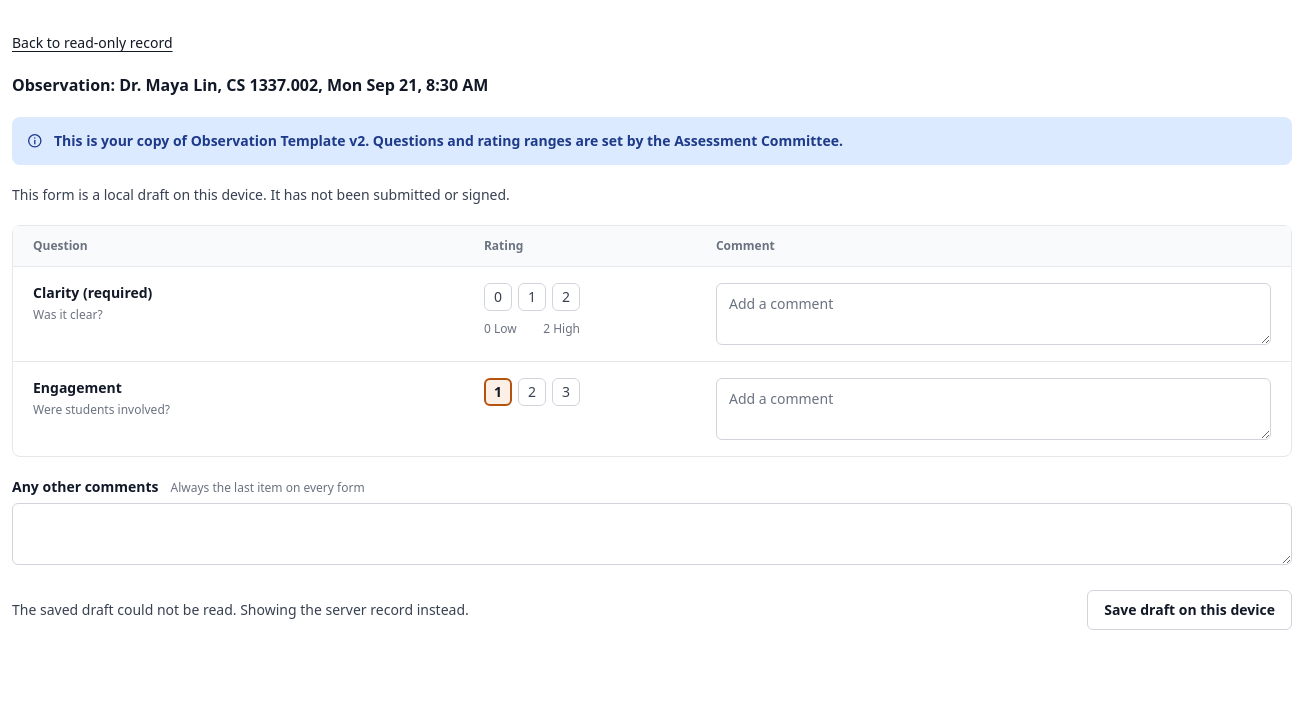
Scenario: rejects corrupt storage and retains edits if writes are blocked
The image size is (1304, 720).
Expected: the text "The saved draft could not be read. Showing the server record instead." is shown, x1=12 y1=600 x2=469 y2=620
Click the radio button labelled "0". click: (498, 297)
box: x1=484 y1=283 x2=512 y2=311
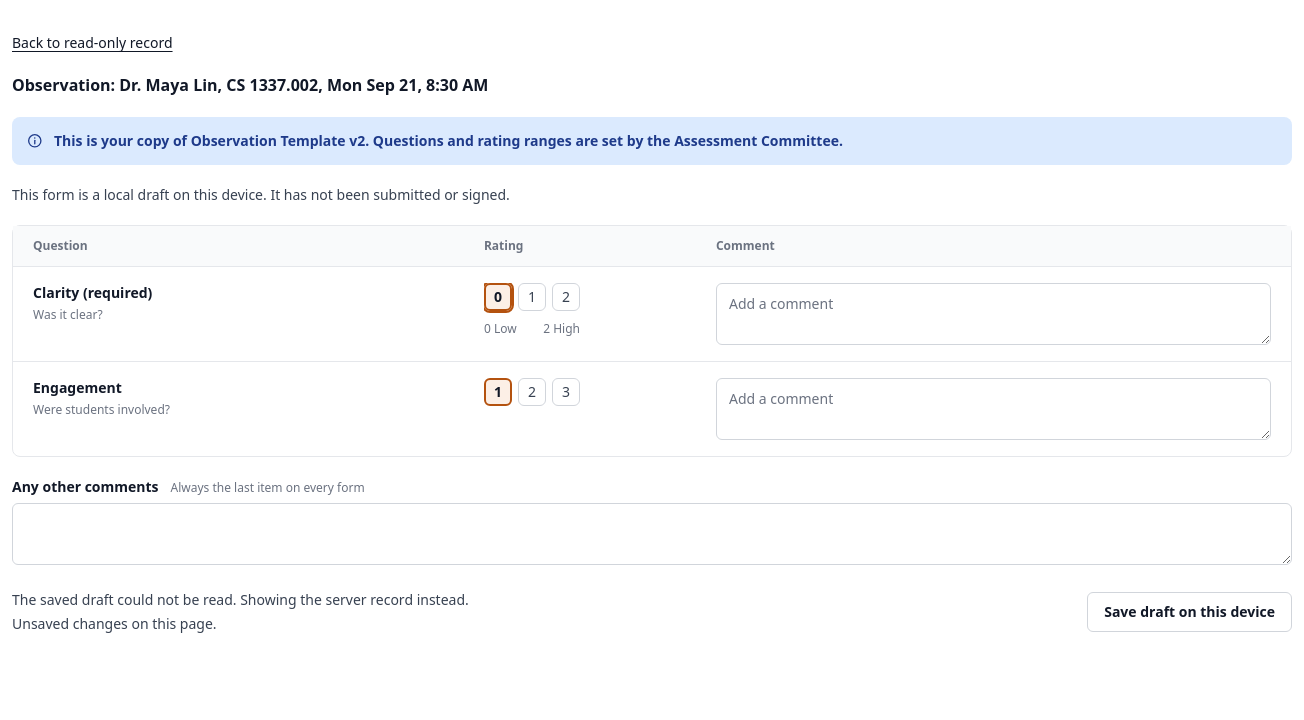
Type "Unsaved" into the text box named "Comment on Clarity". click: (994, 314)
box: x1=716 y1=283 x2=1271 y2=345
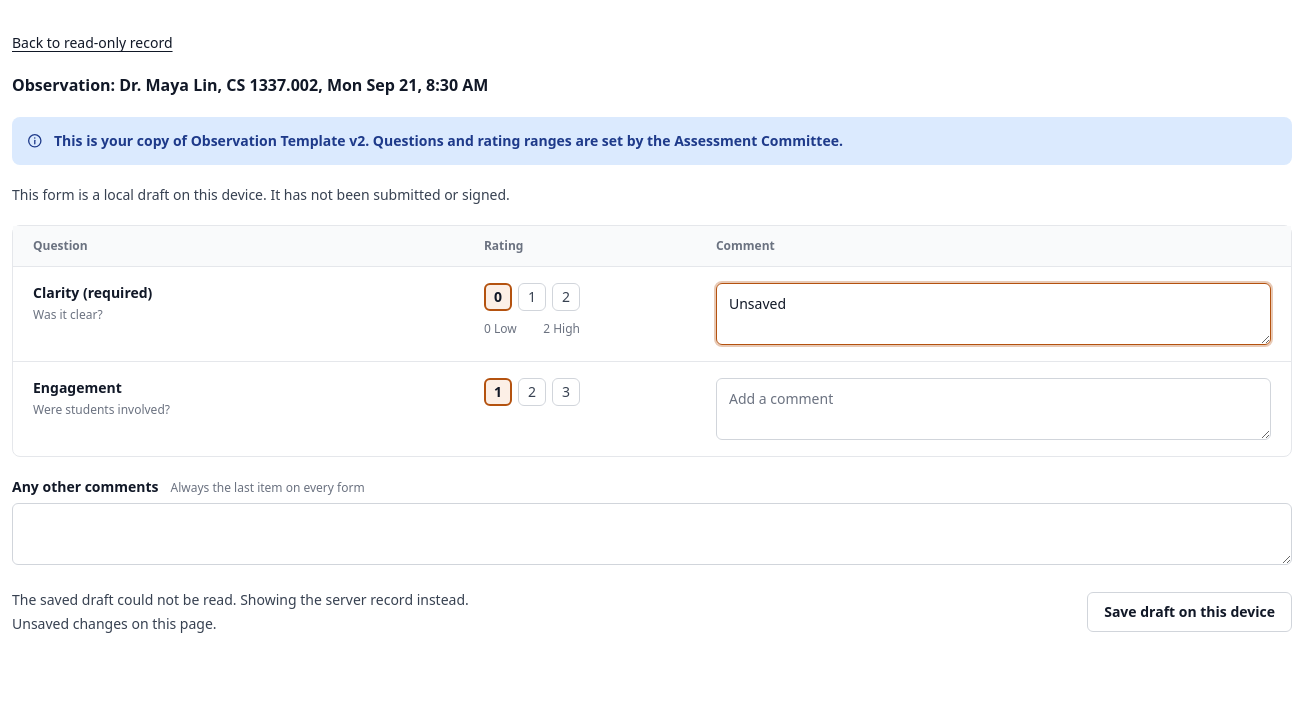
Click the button "Save draft on this device". click: (1190, 612)
box: x1=1087 y1=592 x2=1292 y2=632
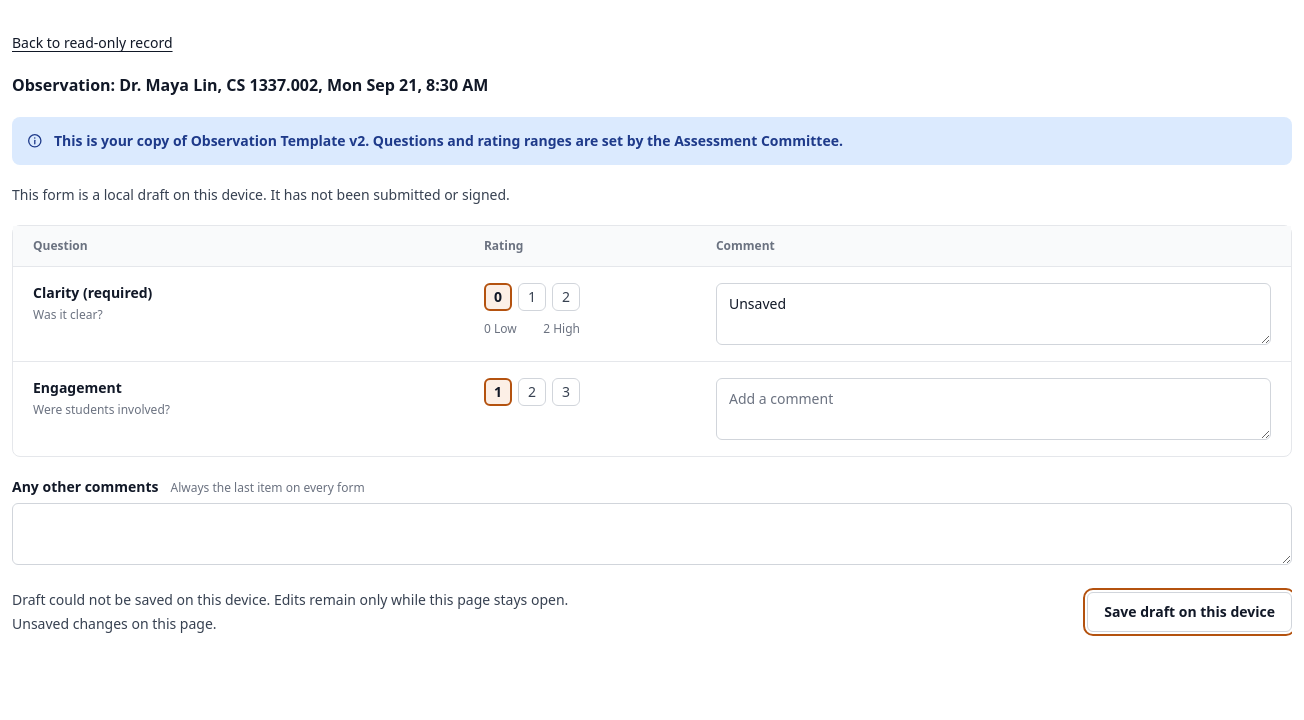
Expected: the text "Draft could not be saved" is shown, x1=12 y1=590 x2=568 y2=609
